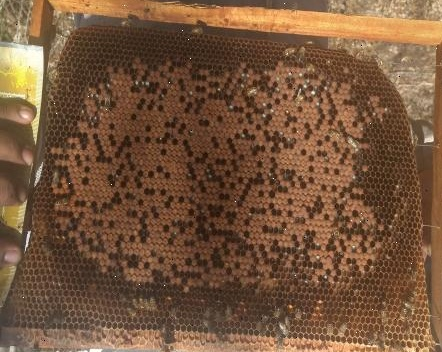cria: (50, 49, 422, 303)
